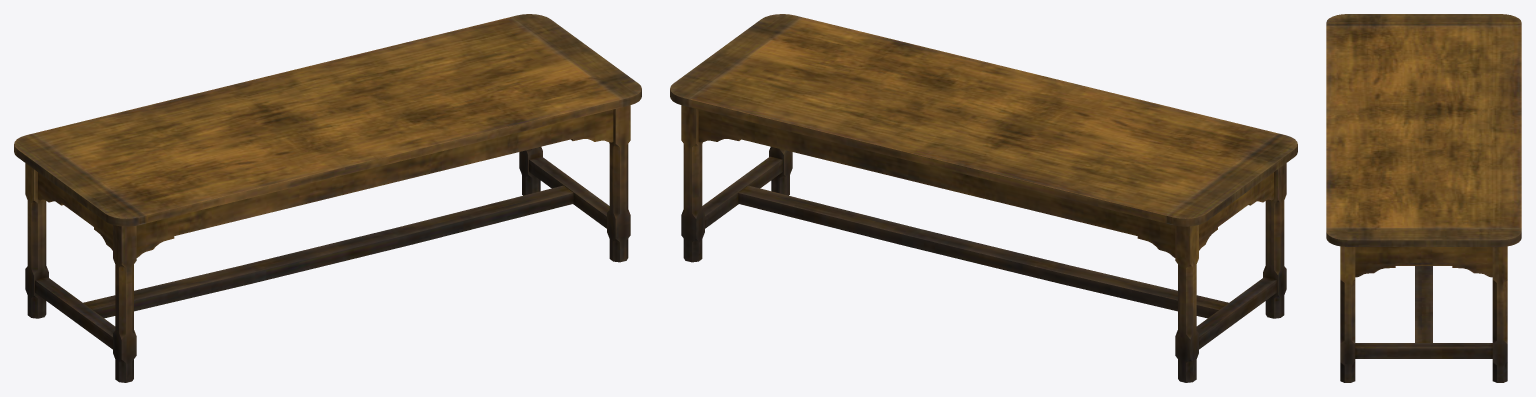
File: WoodenTable_01.glb
The picture shows the model from 3 angles, left to right: view 1: azimuth 30°, elevation 25°; view 2: azimuth 150°, elevation 25°; view 3: azimuth 270°, elevation 25°; orthographic projection. The views are drawn at different scales.
Visible parts, largest first — view 1: WoodenTable_01; view 2: WoodenTable_01; view 3: WoodenTable_01.
Part boxes in pixels (box(x1,y1,x2,y2)): WoodenTable_01: box(14, 14, 641, 382); WoodenTable_01: box(670, 14, 1297, 382); WoodenTable_01: box(1326, 14, 1521, 382).
Size of the model in its own units: 1.8 by 0.5488 by 0.6572.
Materials: 1 (1 with a texture image).
